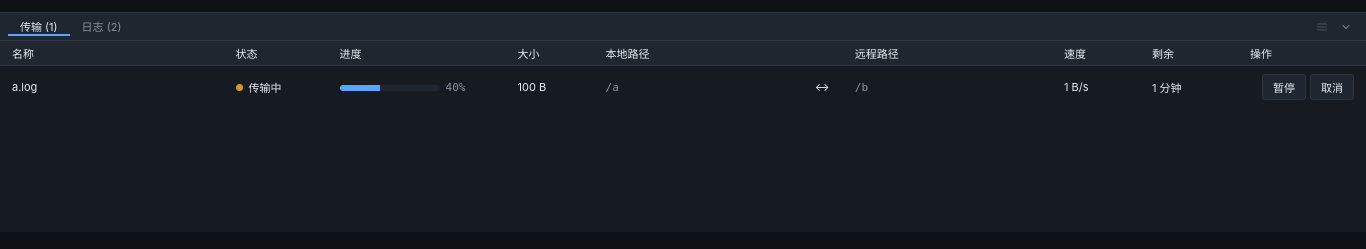
TransferPanel 日志页 › 日志数在 tab 上可见，并如实提示被丢弃的更早记录
Click the button with test id "xfer-tab-log": (102, 26) left=70, top=18, right=133, bottom=36
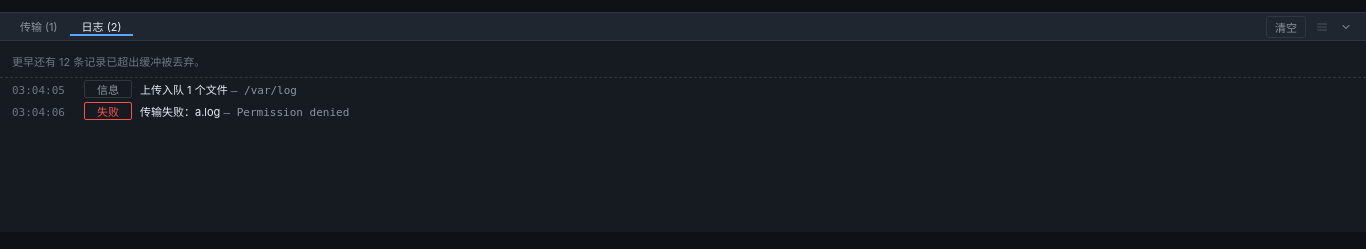
Result: the text with test id "xfer-log-dropped" shows "12" at left=12, top=55, right=205, bottom=69
